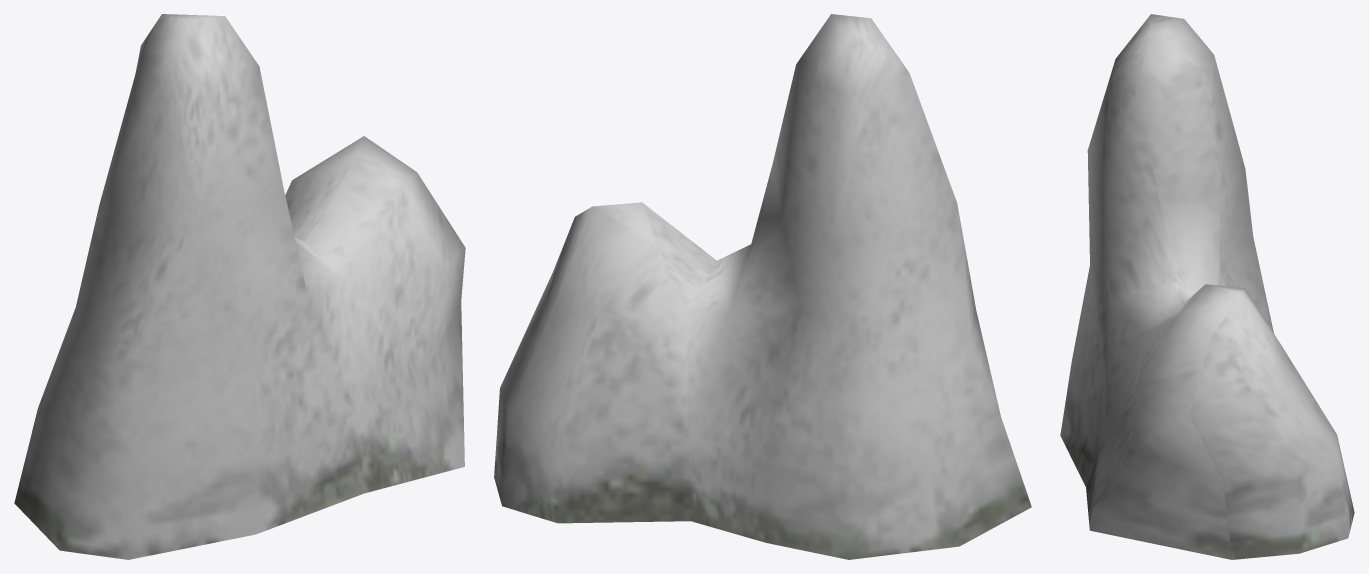
The model's file is general_obj_stone12.fbx.
3 views of the same model, side by side, from view 1: azimuth 30°, elevation 25°; view 2: azimuth 150°, elevation 25°; view 3: azimuth 270°, elevation 25° (orthographic). The views are drawn at different scales.
Parts seen in each view (by area): view 1: Sphere01; view 2: Sphere01; view 3: Sphere01.
Boxes of the visible parts, x1,y1,x2,y2 form: Sphere01: (14, 14, 465, 559); Sphere01: (494, 14, 1031, 559); Sphere01: (1060, 14, 1354, 559).
Bounding box in the file's own units: 3.74 × 3.7 × 2.39.
